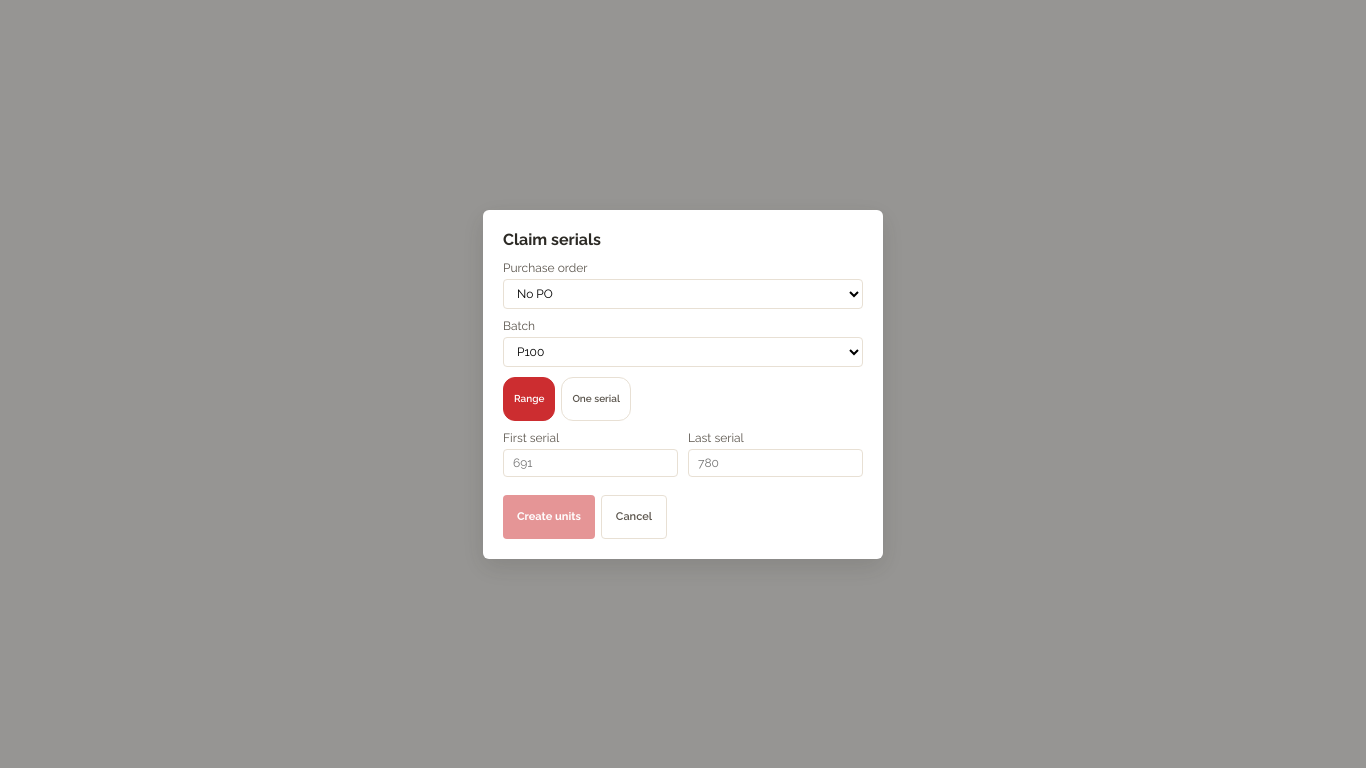
Test: ClaimSerialsModal › blocks a reversed range
In the field labelled "First serial": (590, 462) [503,448,678,476], type "700"
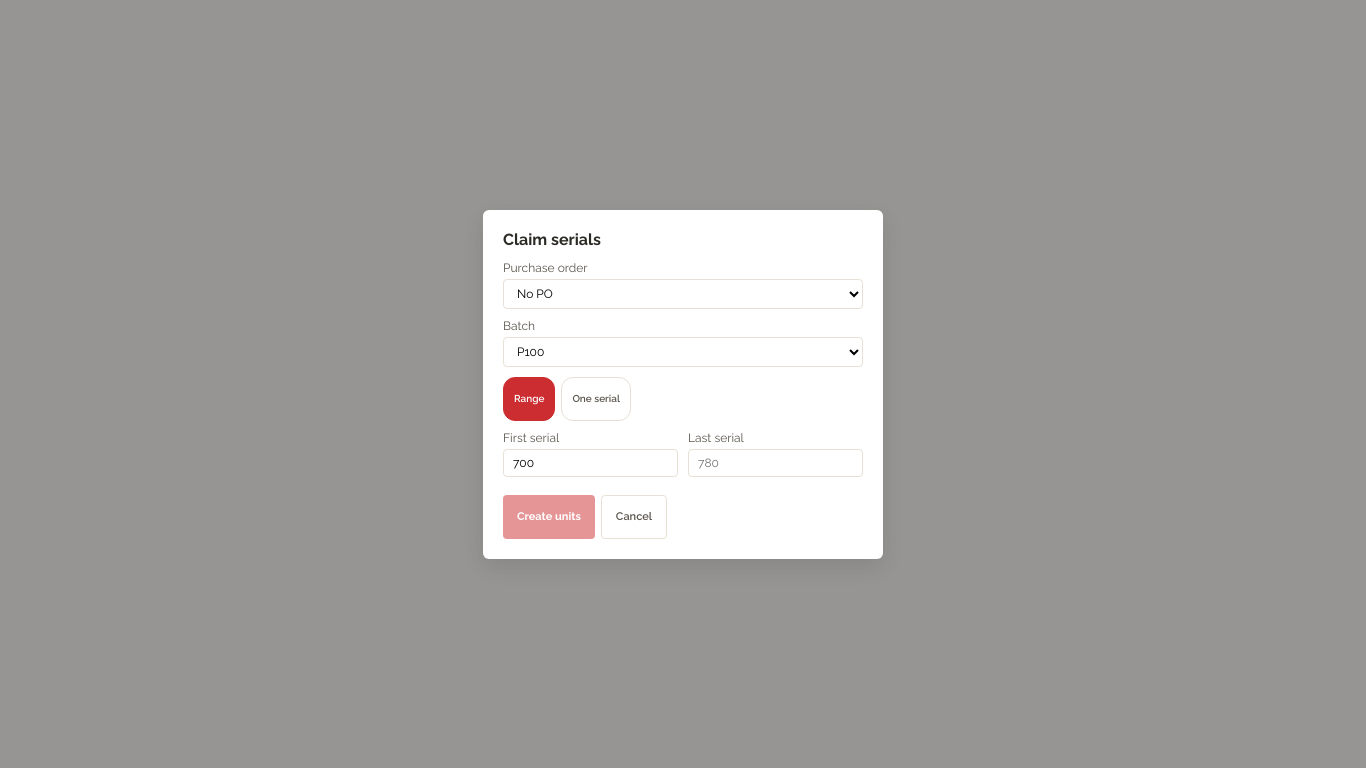
In the field labelled "Last serial": (776, 462) [688,448,863,476], type "691"
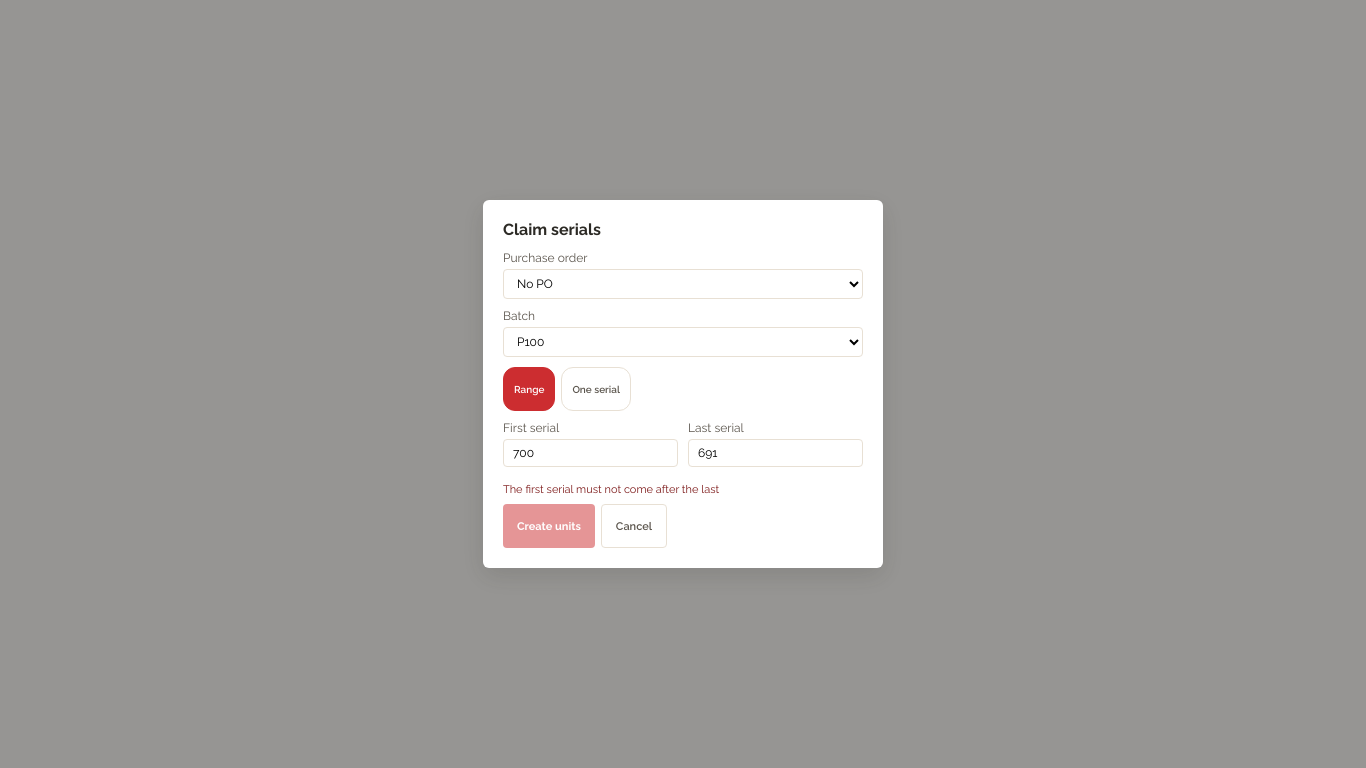
Check: the button "Create units" is disabled, box [503,504,595,548]
Check: the text "The first serial must not come after the last" is shown, box [503,483,719,496]
